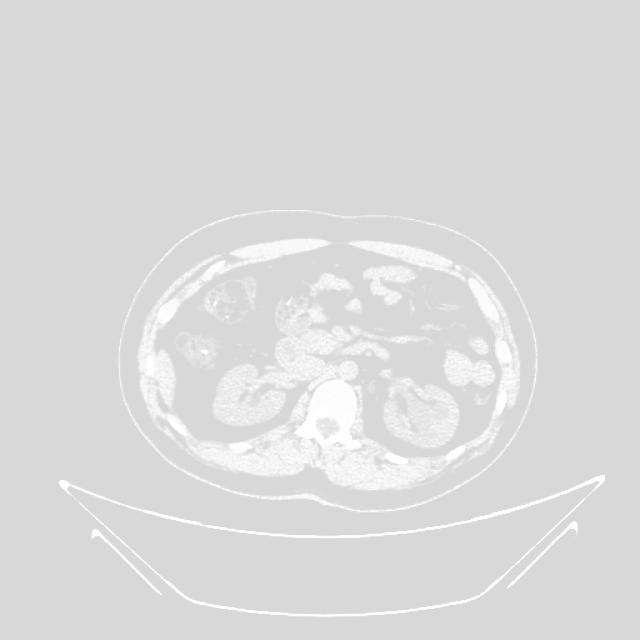cysts: (189, 263, 474, 454)
